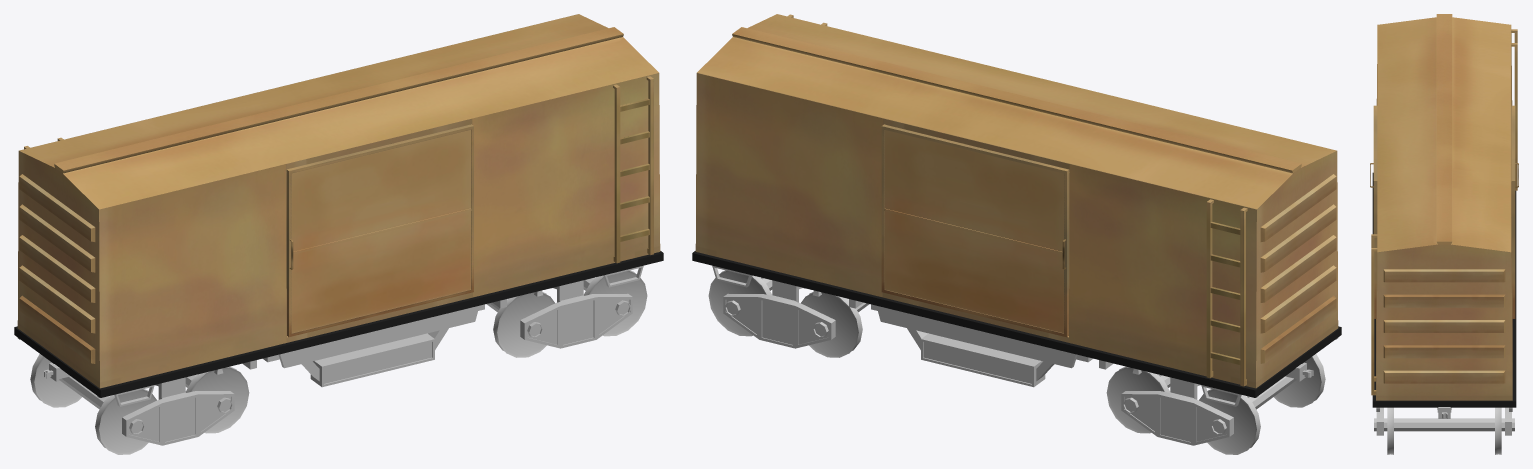
File: VagaoCarga.fbx
3 renders of one model, left to right at view 1: azimuth 30°, elevation 25°; view 2: azimuth 150°, elevation 25°; view 3: azimuth 270°, elevation 25°, orthographic. The views are drawn at different scales.
Parts seen in each view (by area): view 1: VagaoCarga, Porta; view 2: VagaoCarga, PortaCopia; view 3: VagaoCarga, PortaCopia, Porta.
Boxes of the visible parts, bbox=[...] form: VagaoCarga: bbox=[14, 14, 663, 454]; Porta: bbox=[286, 124, 473, 336]; VagaoCarga: bbox=[692, 14, 1341, 454]; PortaCopia: bbox=[881, 124, 1069, 337]; VagaoCarga: bbox=[1371, 14, 1517, 454]; PortaCopia: bbox=[1511, 105, 1518, 318]; Porta: bbox=[1370, 105, 1377, 318].
Size of the model in its own units: 1365 by 601 by 359.
